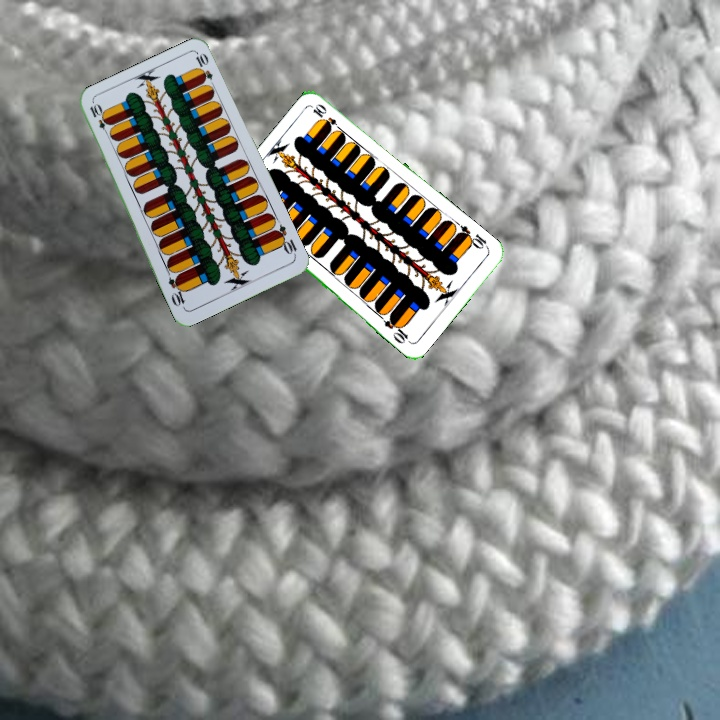E10: (454, 221, 491, 252), (270, 221, 299, 259), (86, 100, 113, 139)
